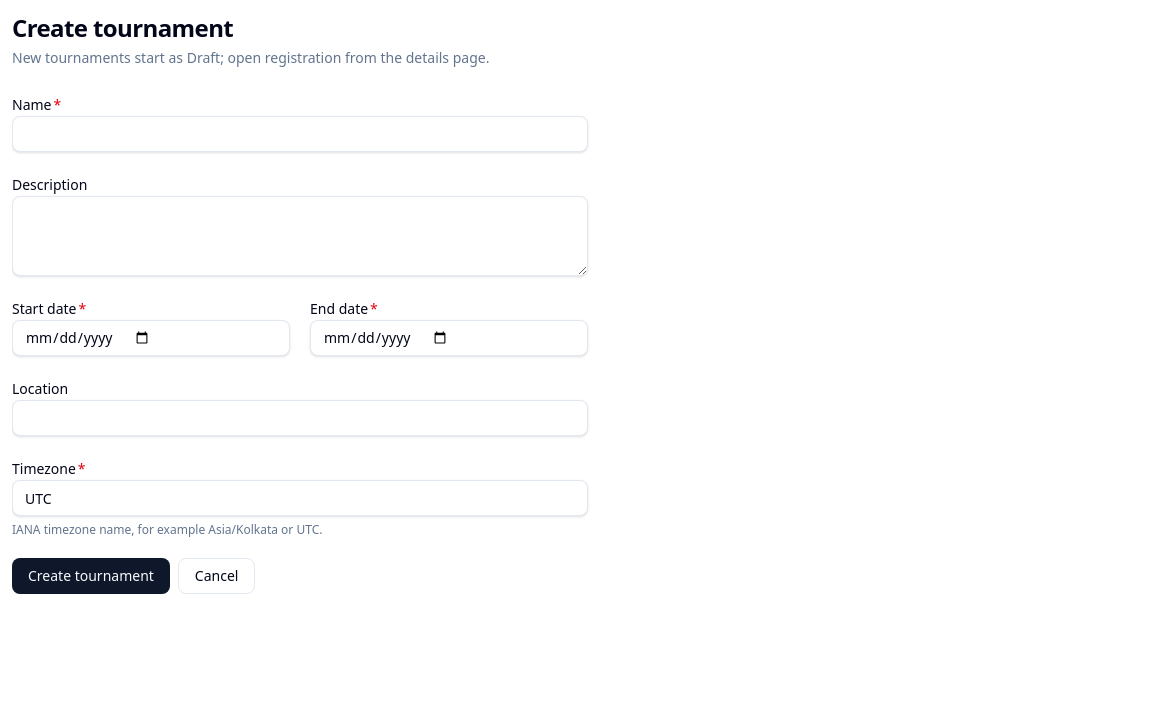
Scenario: tournament setup flows › creates a tournament and lands on its details page
The image size is (1164, 726).
In the field labelled "Name*": (300, 134) x1=12 y1=116 x2=588 y2=152, type "Winter Cup"
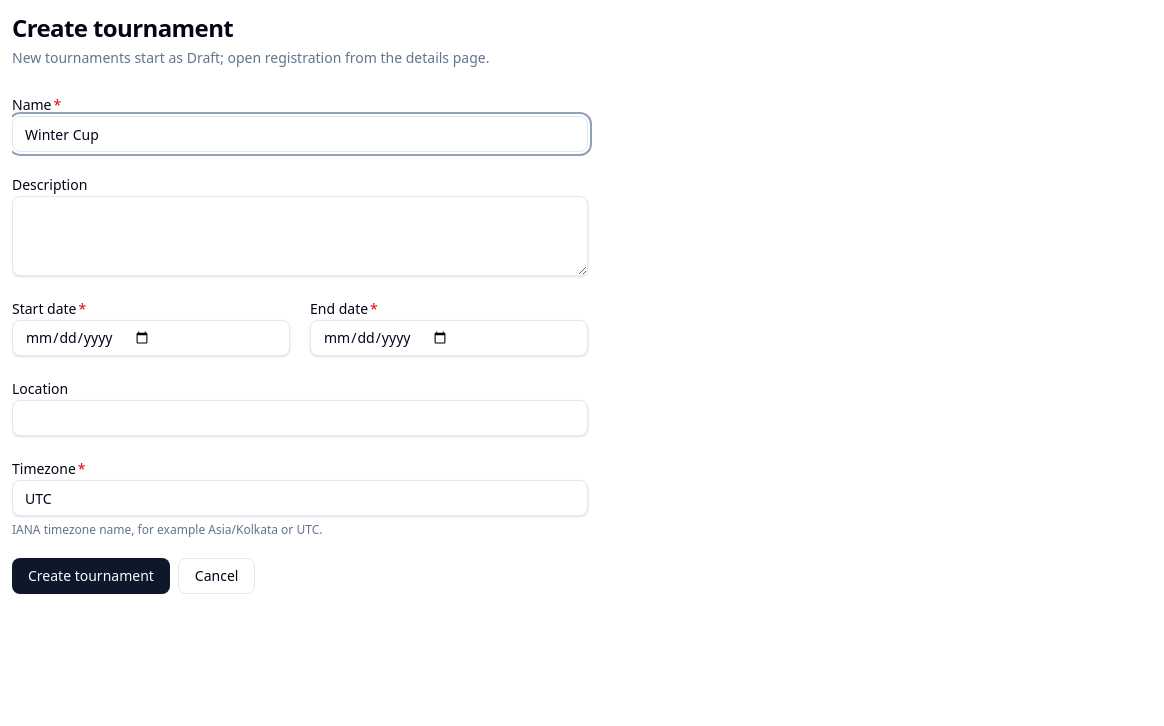
In the date field labelled "Start date*": (151, 338) x1=12 y1=320 x2=290 y2=356, type "2026-10-01"
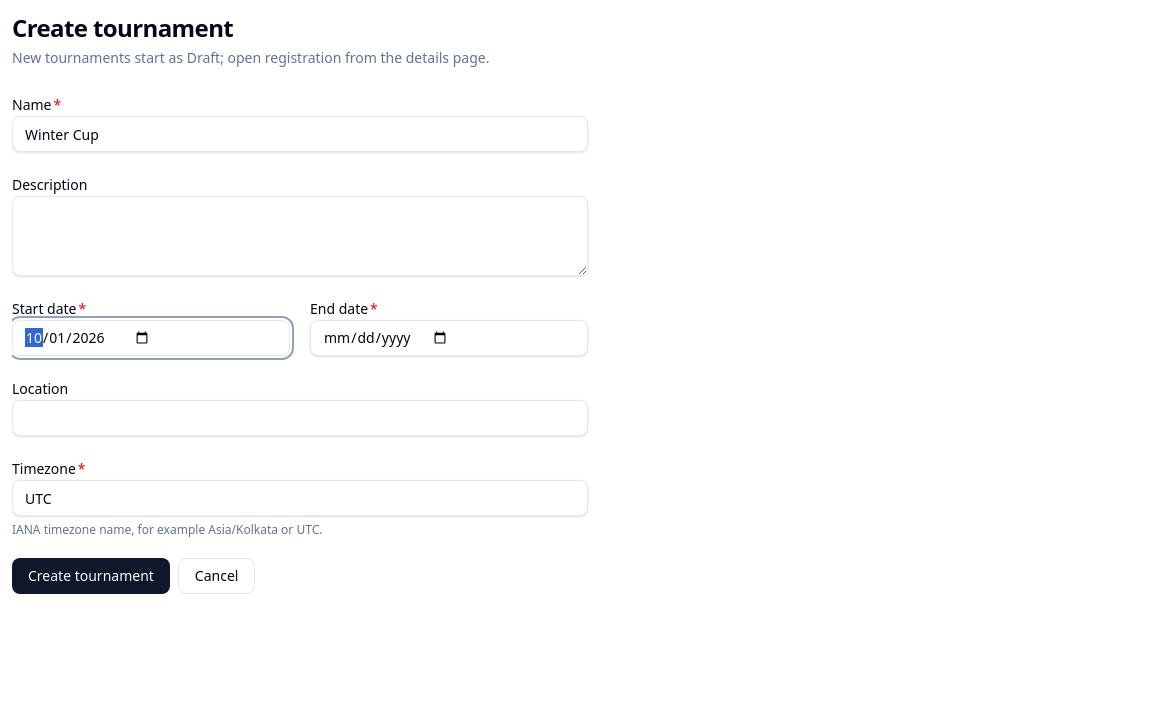
In the date field labelled "End date*": (449, 338) x1=310 y1=320 x2=588 y2=356, type "2026-10-05"
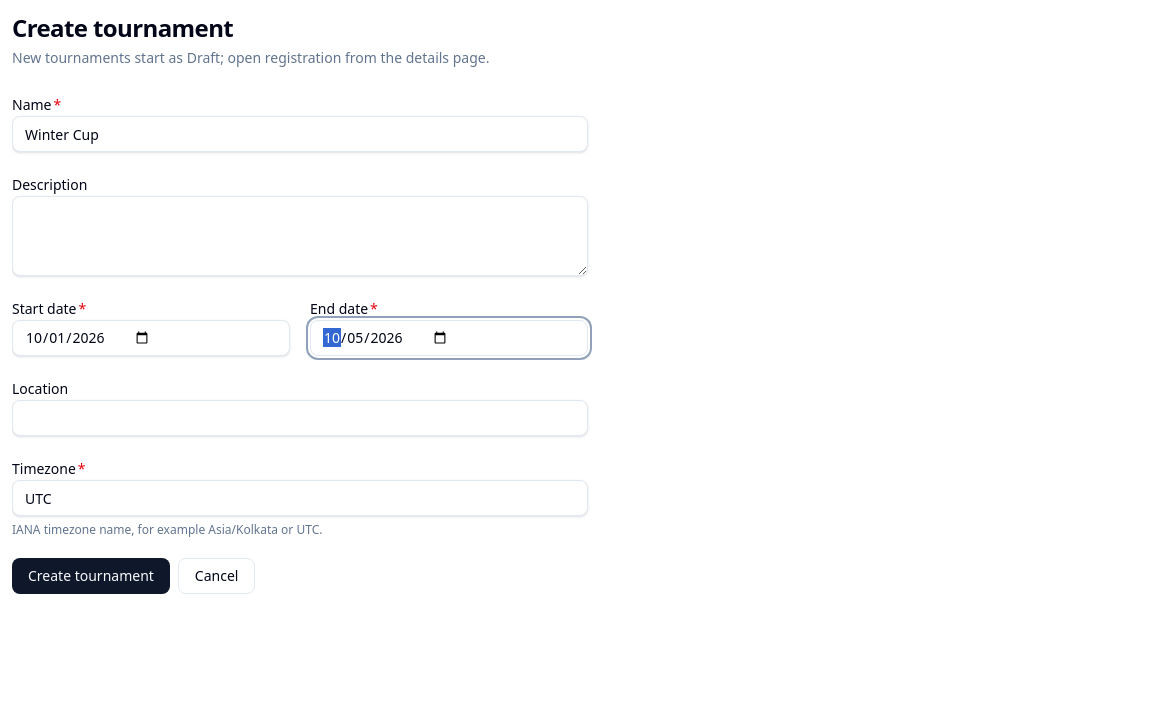
Click the button "Create tournament": (91, 576) x1=12 y1=558 x2=170 y2=594
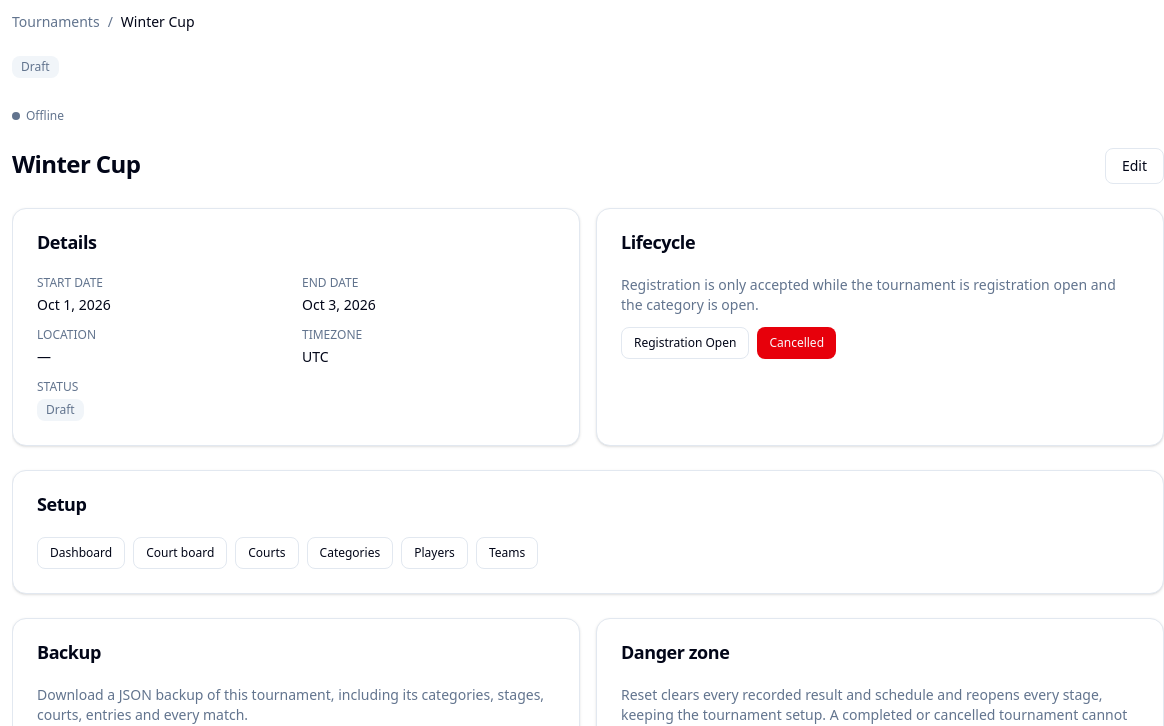
expect the heading "Winter Cup" is shown: met, box x1=12 y1=148 x2=140 y2=180
